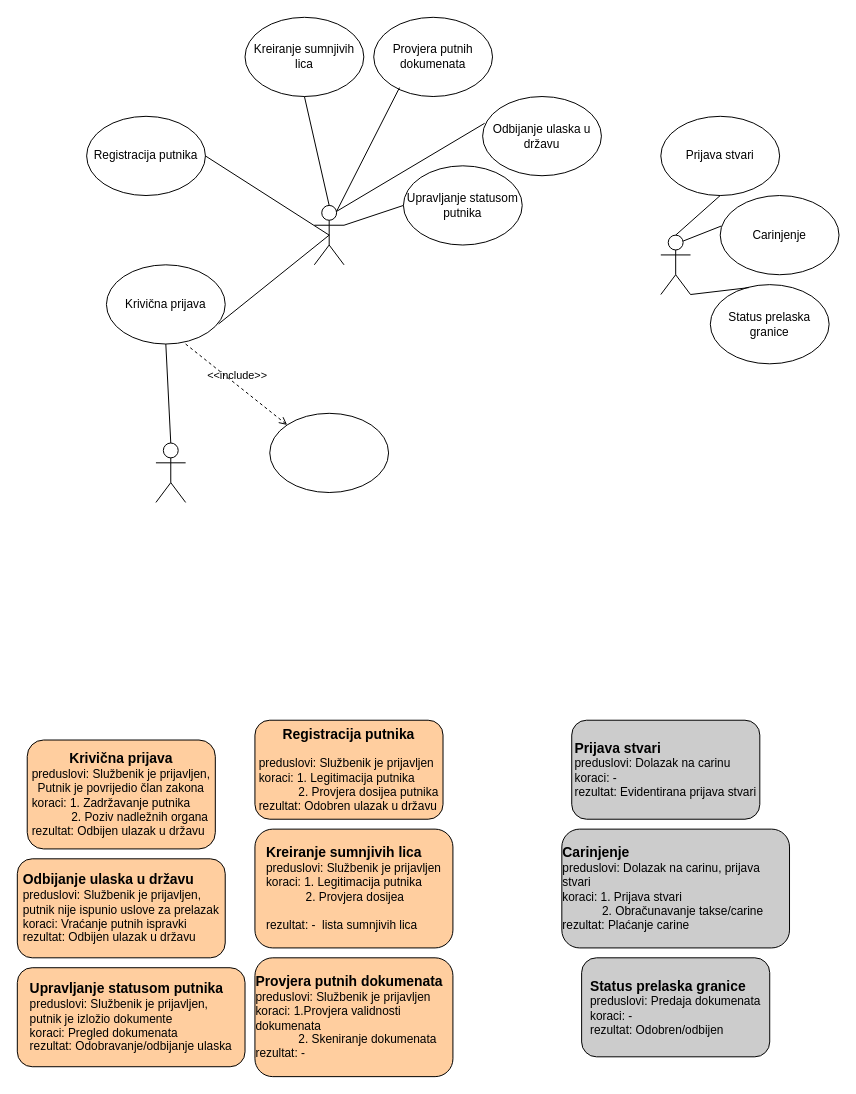
Some shapes in this 856 by 1094 pixel diagram are drawn without their labels. Here are the shapes that lost their labels. From the top down, the centre of each, then its label:
At [328,234]: "Granični službenik".
At [675,264]: "Putnik".
At [170,472]: "Službenik MUP-a".
At [329,452]: "Proslijeđivanje krivične prijave".
